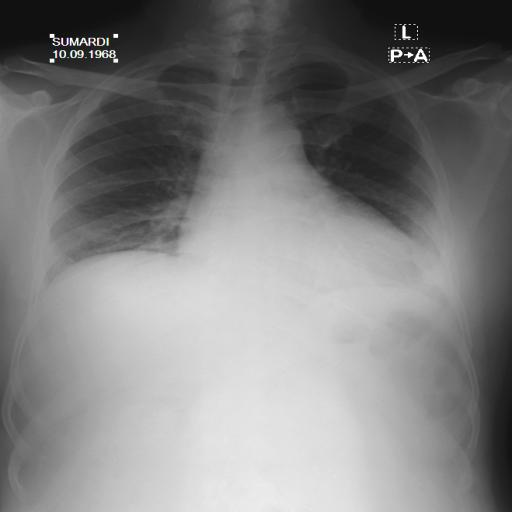kardiomegali: (26, 47, 470, 325)
